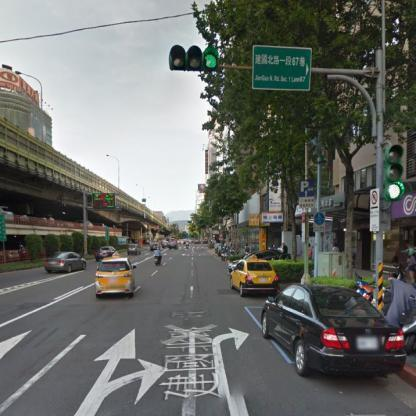Green Light: (382, 141, 405, 205), (167, 44, 219, 72)
